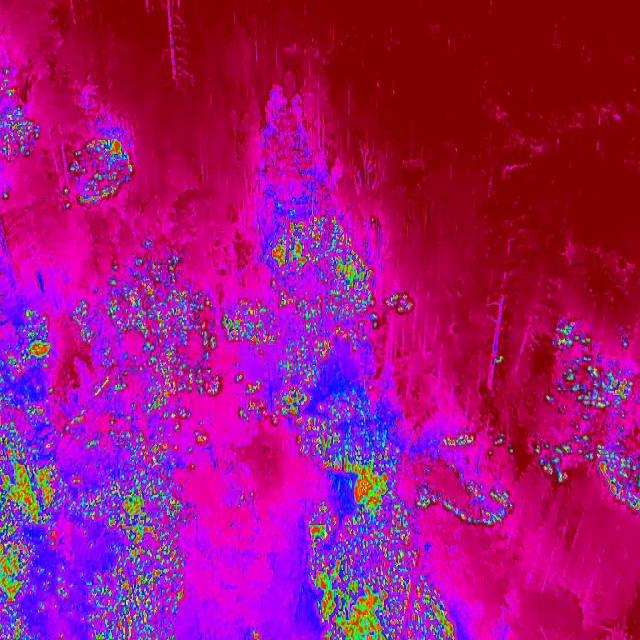fire: (0, 239, 217, 640), (222, 213, 378, 425), (297, 411, 418, 640), (540, 323, 640, 482), (408, 432, 514, 528), (59, 134, 136, 212), (0, 72, 40, 158), (264, 159, 327, 212), (418, 570, 464, 640), (386, 283, 418, 318), (607, 482, 640, 513)
